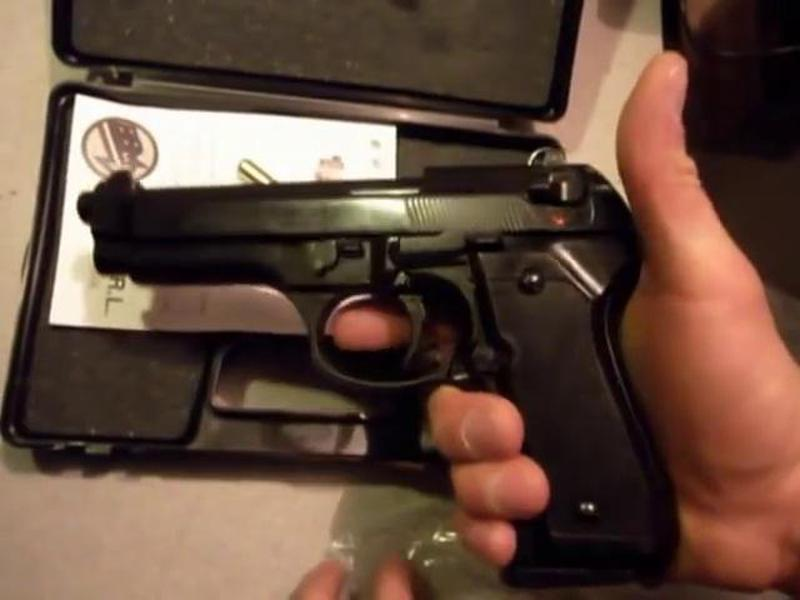Pistola: (89, 133, 693, 590)
